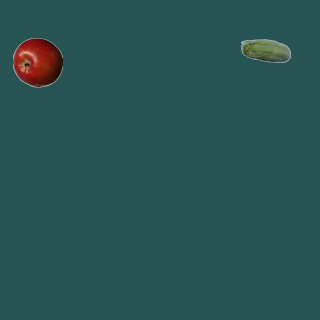Apple Braeburn: (12, 37, 62, 87)
Corn Husk: (240, 27, 290, 77)
